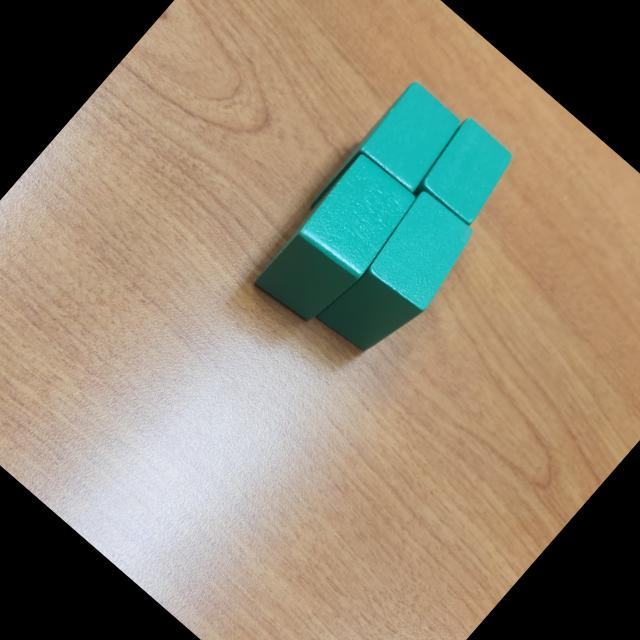green: (246, 148, 424, 334), (312, 188, 485, 370), (304, 78, 472, 255), (406, 116, 524, 237)
